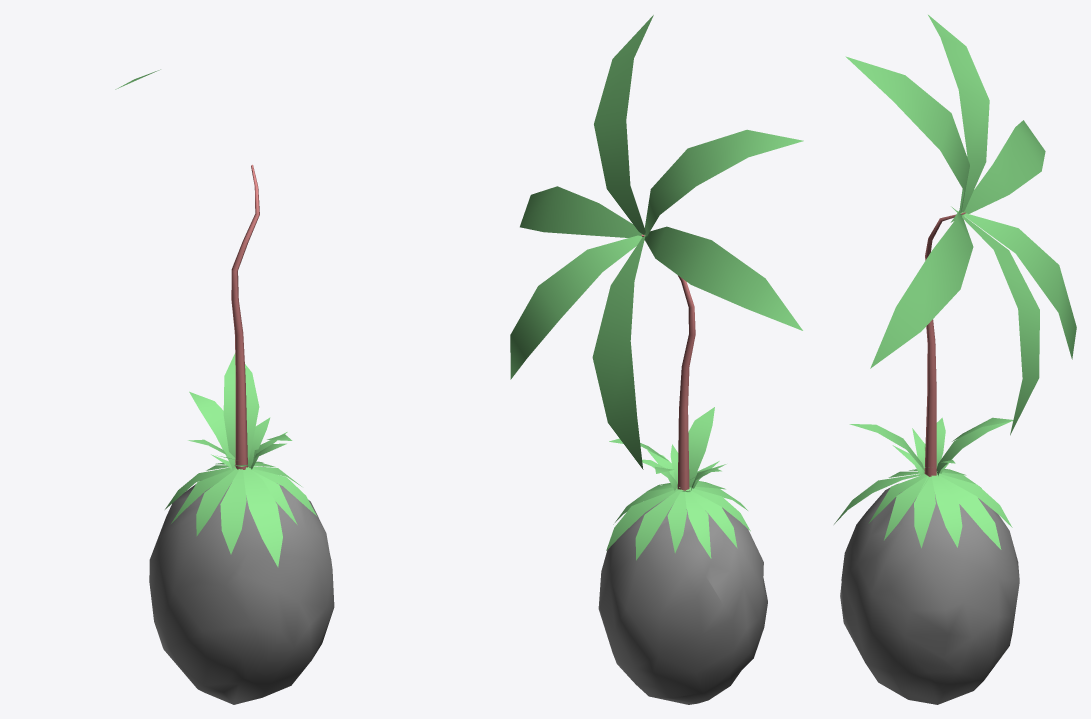
File: SM_plant_seedling_jungle_A.gltf
3 views of the same model, side by side, from view 1: azimuth 30°, elevation 25°; view 2: azimuth 150°, elevation 25°; view 3: azimuth 270°, elevation 25° (orthographic). The views are drawn at different scales.
Parts seen in each view (by area): view 1: SM_plant_seedling_jungle_A; view 2: SM_plant_seedling_jungle_A; view 3: SM_plant_seedling_jungle_A.
Part boxes in pixels (x1,y1,x2,y2): SM_plant_seedling_jungle_A: (115, 69, 334, 704); SM_plant_seedling_jungle_A: (510, 15, 803, 704); SM_plant_seedling_jungle_A: (834, 15, 1076, 704).
Size of the model in its own units: 0.866 by 1.48 by 0.485.
